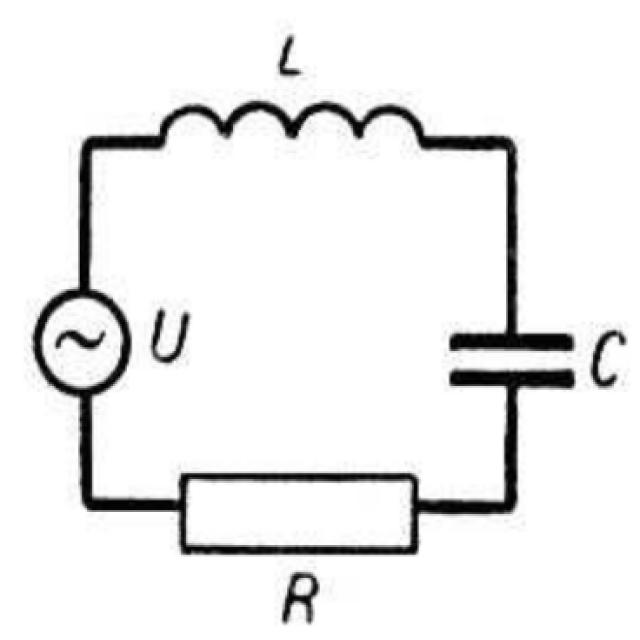cap: (443, 324, 581, 398)
ind: (149, 95, 434, 164)
net: (498, 126, 525, 352), (502, 372, 526, 520), (74, 132, 95, 298), (417, 125, 522, 157), (76, 488, 194, 516), (74, 379, 97, 516), (408, 492, 526, 518), (72, 130, 176, 156)
res: (174, 465, 429, 564)
source: (28, 284, 136, 396)
